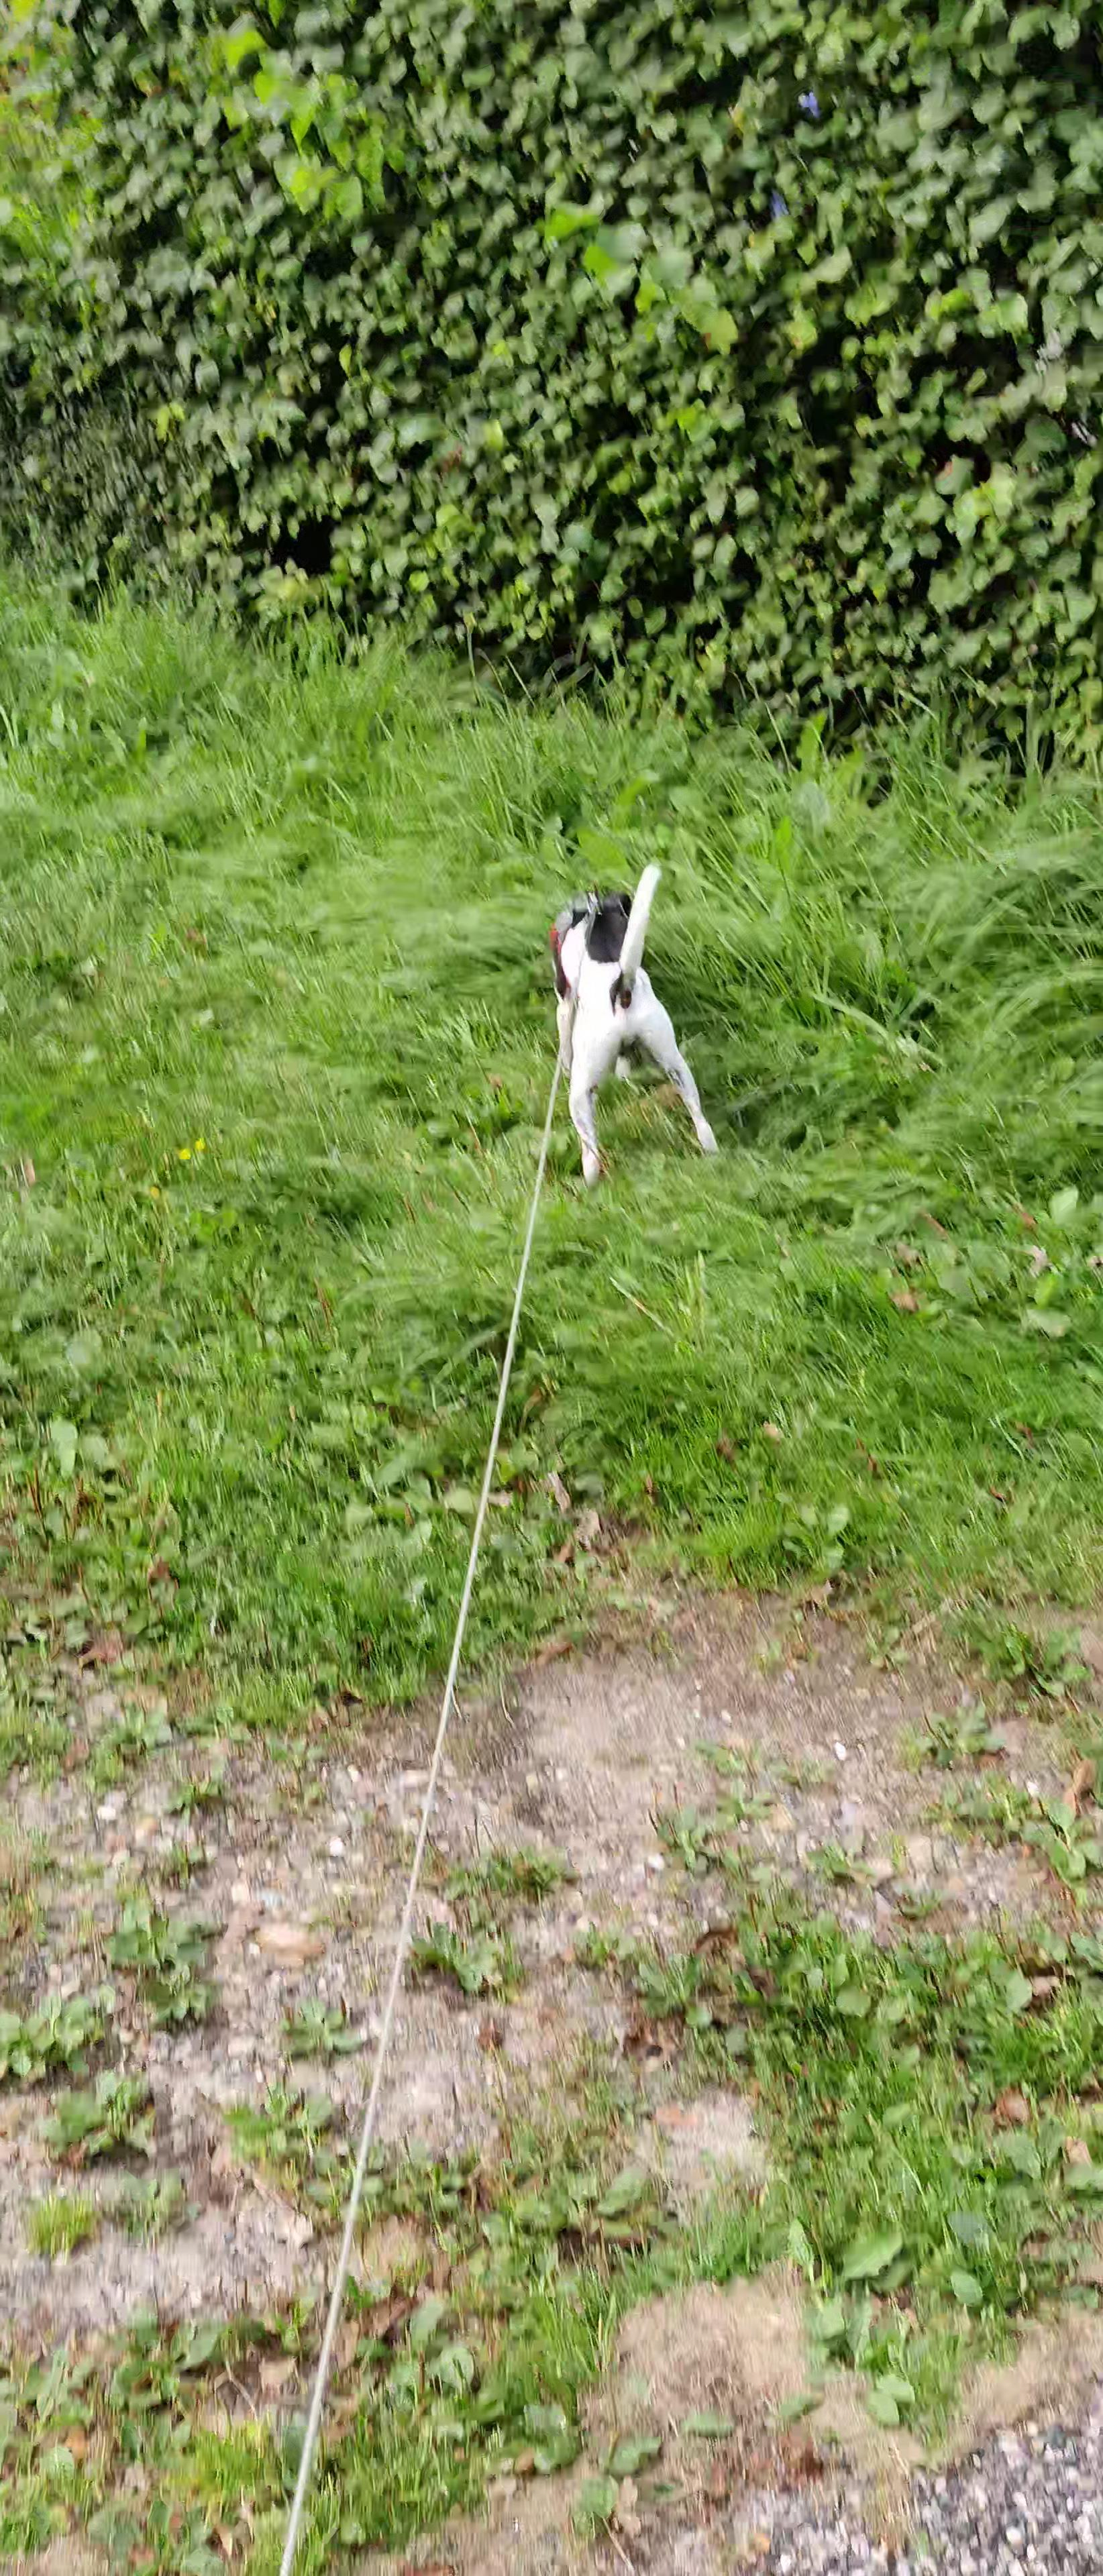Dog: (521, 843, 720, 1199)
